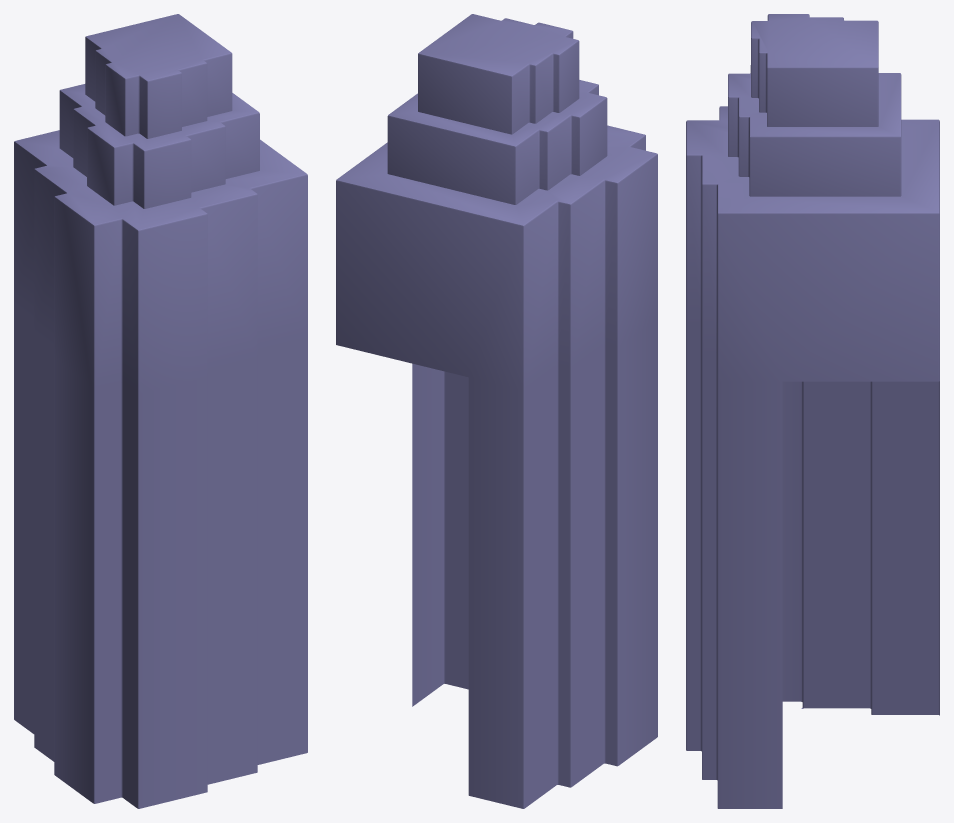
File: M_A_corner_03.fbx
The picture shows the model from 3 angles, left to right: view 1: azimuth 30°, elevation 25°; view 2: azimuth 150°, elevation 25°; view 3: azimuth 270°, elevation 25°; orthographic projection. The views are drawn at different scales.
Parts seen in each view (by area): view 1: M_A_corner_03; view 2: M_A_corner_03; view 3: M_A_corner_03.
Boxes of the visible parts, box(x1,y1,x2,y2) form: M_A_corner_03: box(14, 14, 307, 808); M_A_corner_03: box(336, 14, 657, 808); M_A_corner_03: box(686, 14, 939, 808).
Size of the model in its own units: 161 by 502 by 161.
